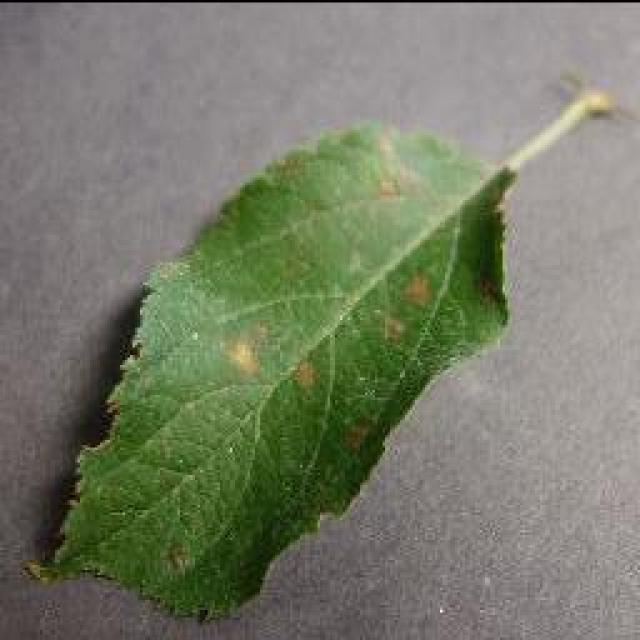apple rust disease: (20, 75, 625, 623)
